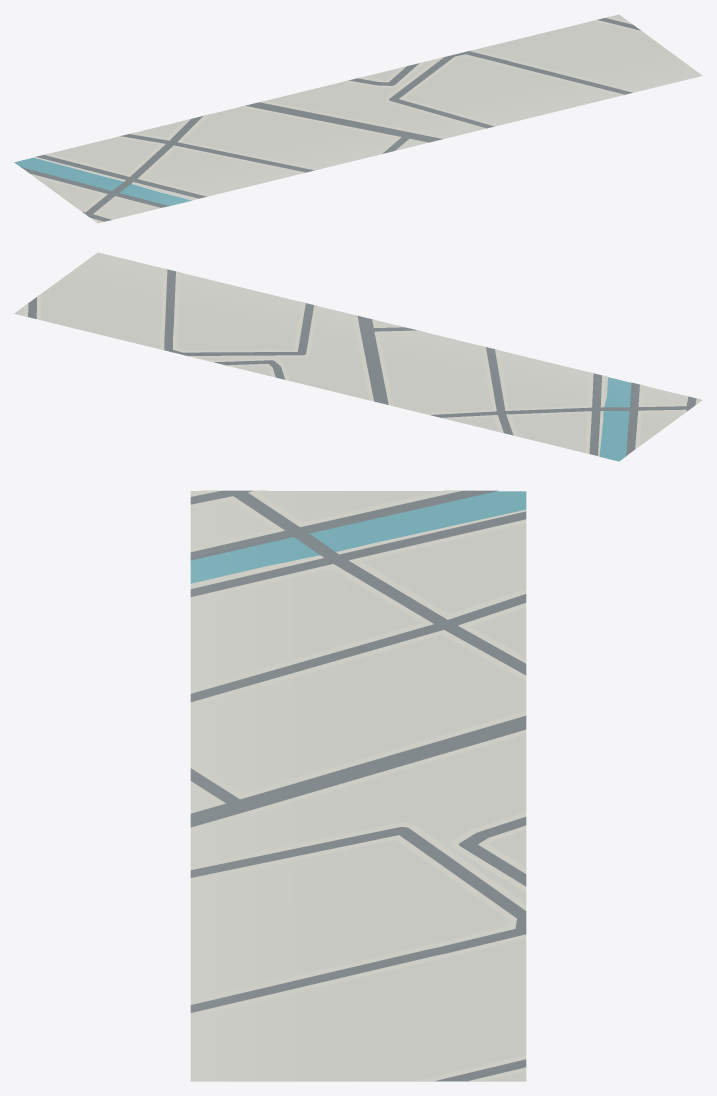
3 views of the same model, one above another, from view 1: azimuth 30°, elevation 25°; view 2: azimuth 150°, elevation 25°; view 3: azimuth 270°, elevation 25° (orthographic). The views are drawn at different scales.
Visible parts, largest first — view 1: city; view 2: city; view 3: city.
Boxes of the visible parts, x1=… form: city: x1=14, y1=14, x2=702, y2=223; city: x1=14, y1=252, x2=702, y2=461; city: x1=190, y1=490, x2=526, y2=1081.
Bounding box in the file's own units: 500 × 0.4 × 120.
